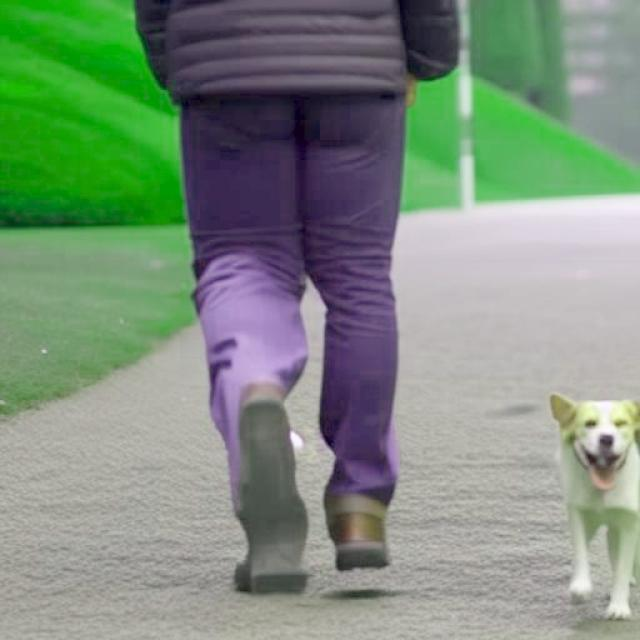Unleashed_Dog: (181, 90, 640, 619)
